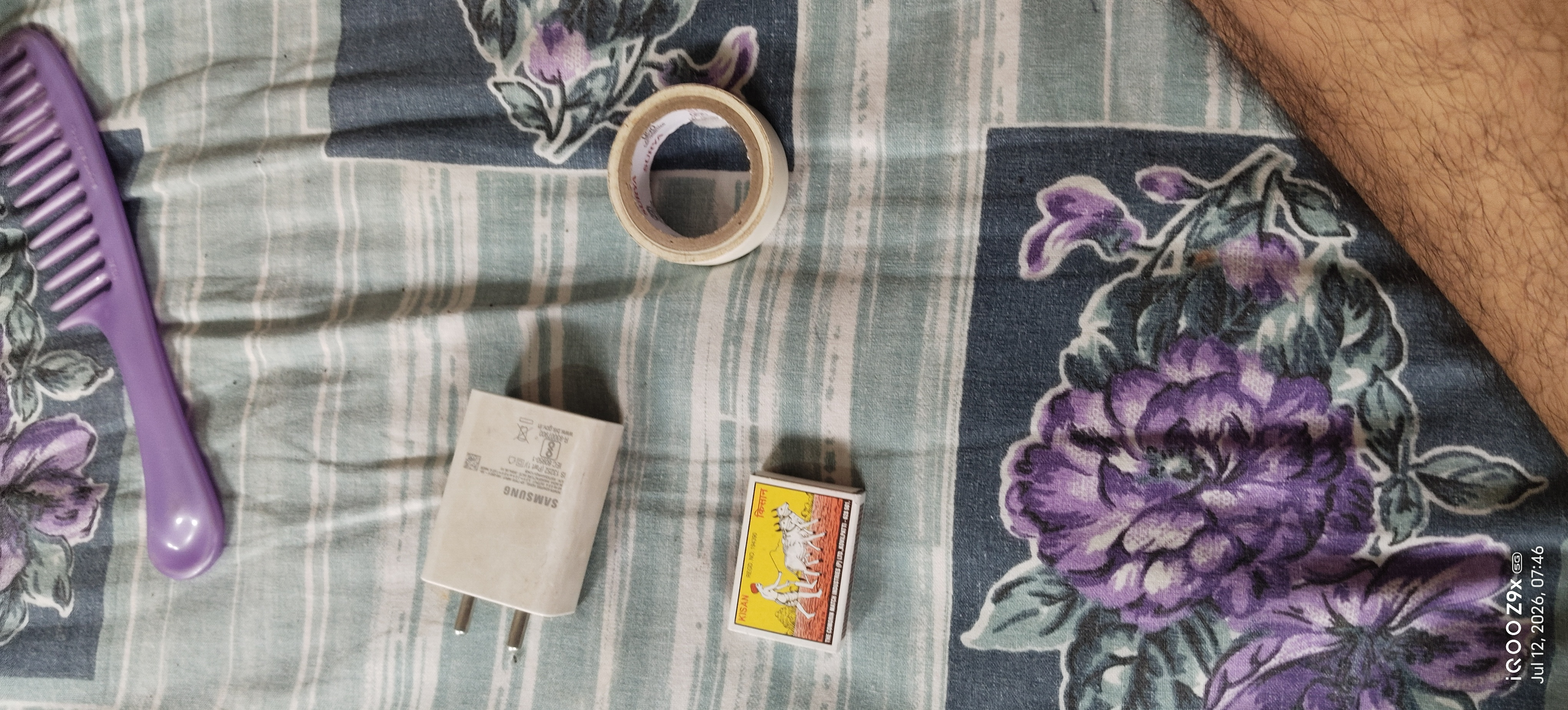charger: (398, 355, 642, 672)
matchbox: (701, 443, 888, 665)
tape_roll: (571, 76, 846, 291)
